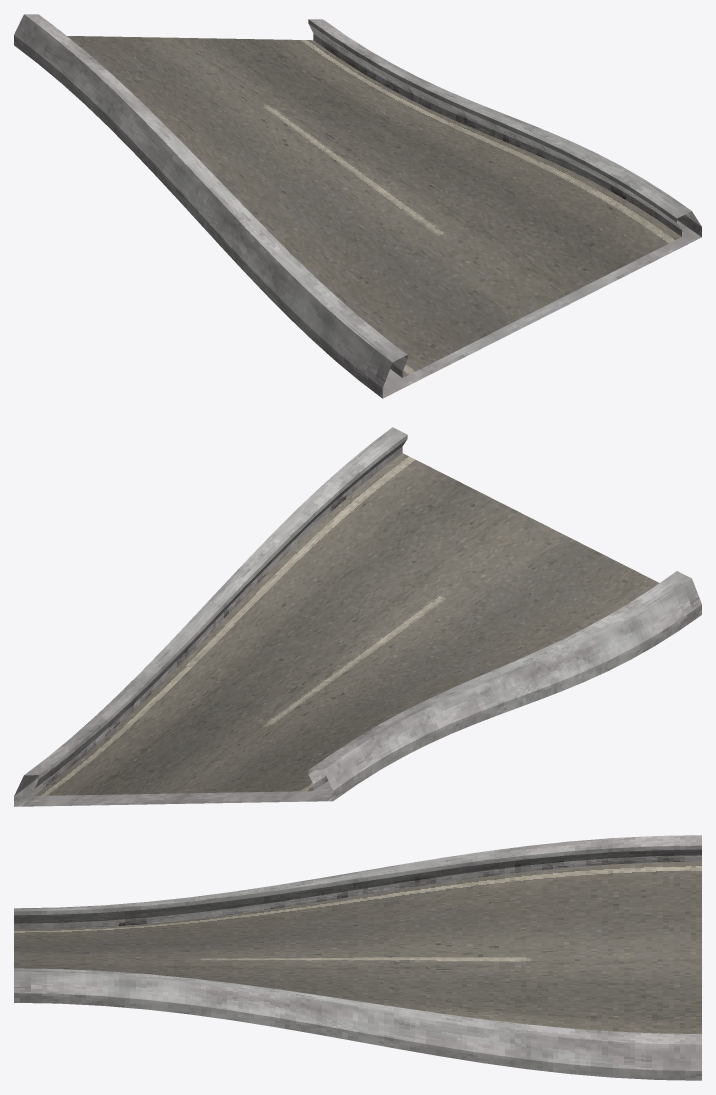
Rendered from straight2.glb.
The picture shows the model from 3 angles, top to bottom: view 1: azimuth 30°, elevation 25°; view 2: azimuth 150°, elevation 25°; view 3: azimuth 270°, elevation 25°; orthographic projection. The views are drawn at different scales.
Parts seen in each view (by area): view 1: road-Straight-HalfBankedLeft-HalfBankedRight-Even-Center-Siz; view 2: road-Straight-HalfBankedLeft-HalfBankedRight-Even-Center-Siz; view 3: road-Straight-HalfBankedLeft-HalfBankedRight-Even-Center-Siz.
Part boxes in pixels (left/top/right/bottom): road-Straight-HalfBankedLeft-HalfBankedRight-Even-Center-Siz: left=14, top=14, right=701, bottom=398; road-Straight-HalfBankedLeft-HalfBankedRight-Even-Center-Siz: left=14, top=427, right=701, bottom=806; road-Straight-HalfBankedLeft-HalfBankedRight-Even-Center-Siz: left=14, top=835, right=701, bottom=1080.
Size of the model in its own units: 1 by 0.3359 by 2.
2 materials, 2 textured.
